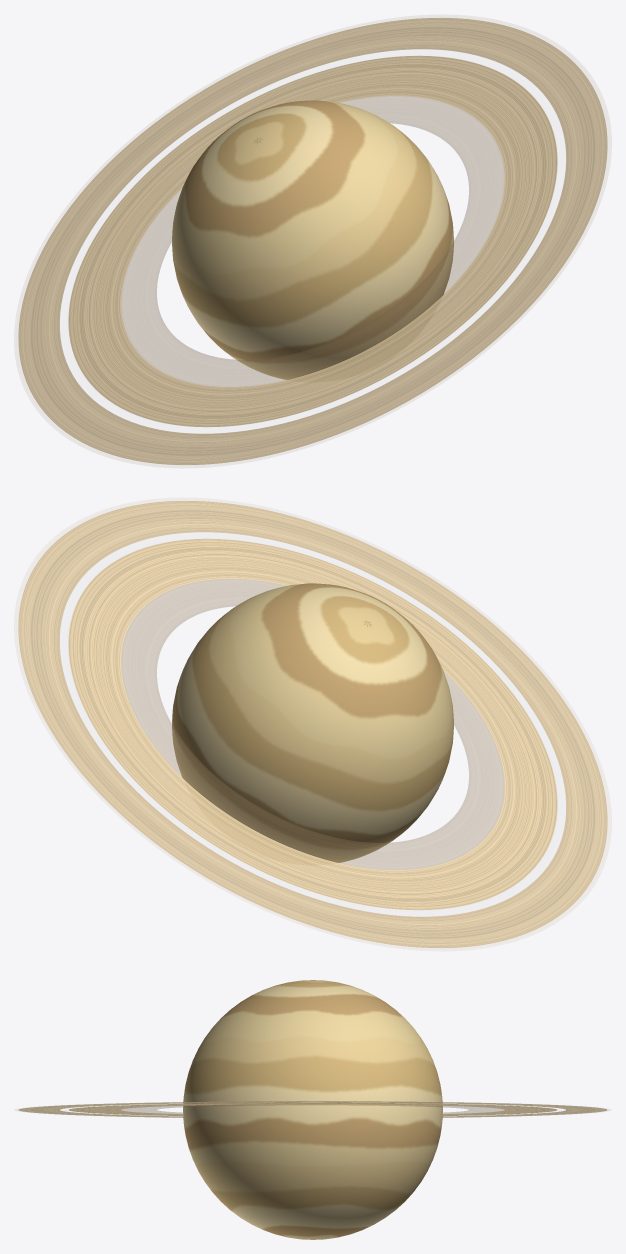
File: saturnus.glb
3 views of the same model, one above another, from view 1: azimuth 30°, elevation 25°; view 2: azimuth 150°, elevation 25°; view 3: azimuth 270°, elevation 25° (orthographic). The views are drawn at different scales.
Parts seen in each view (by area): view 1: Cincin, Planet; view 2: Cincin, Planet; view 3: Planet, Cincin.
Boxes of the visible parts, box(x1,y1,x2,y2) form: Cincin: box(14, 15, 611, 467); Planet: box(172, 100, 453, 379); Cincin: box(14, 498, 611, 950); Planet: box(172, 583, 453, 862); Planet: box(183, 980, 442, 1239); Cincin: box(16, 1101, 609, 1117).
Bounding box in the file's own units: 2.05 × 1.03 × 2.3.
Materials: 2 (2 with a texture image).
